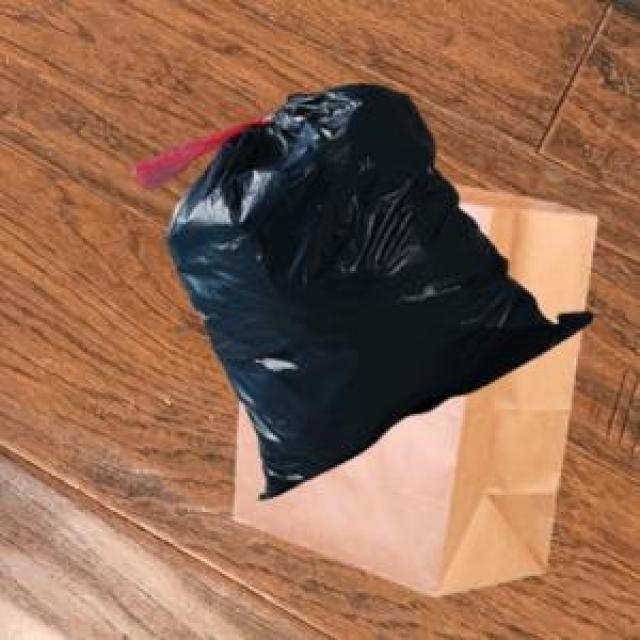miscellaneous trash: (128, 81, 589, 495)
paper: (230, 181, 593, 593)
